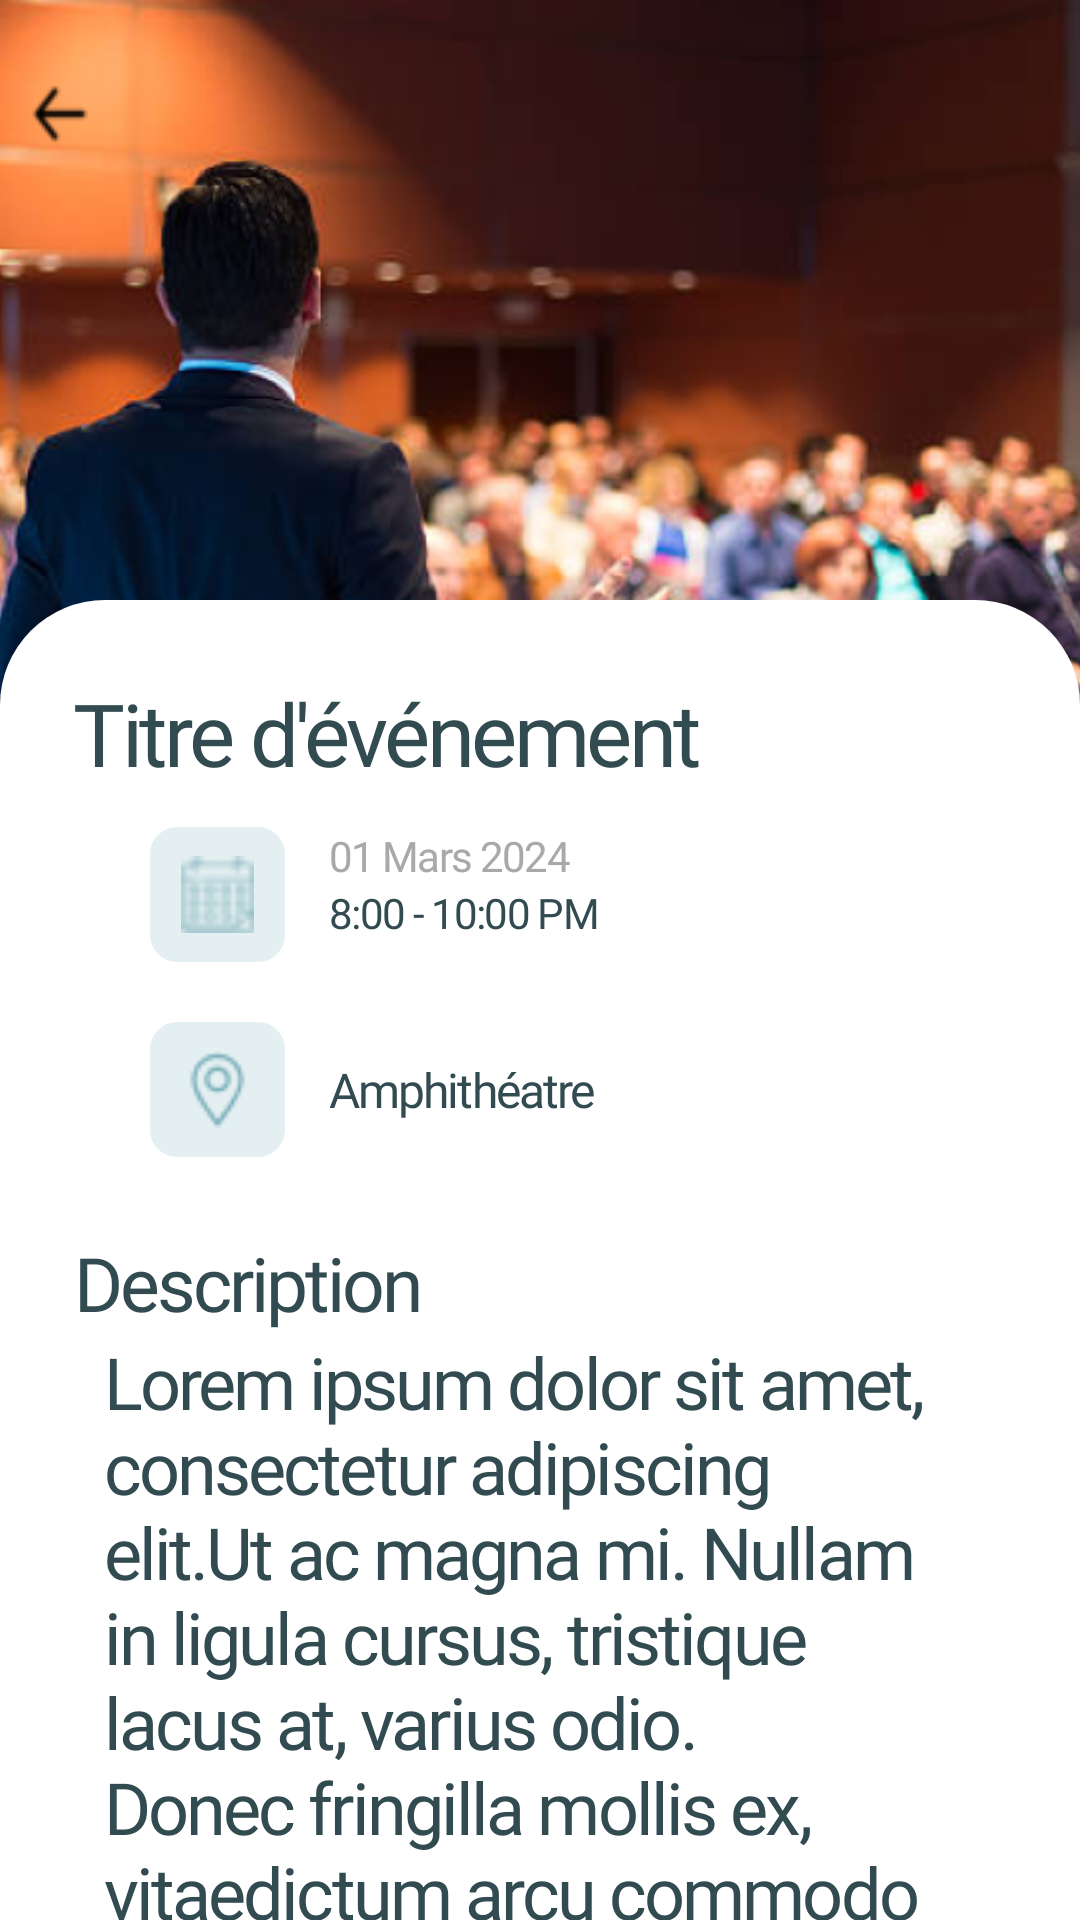

Where icons sit on this 1080 × 1920 app screen, as Rect(x1, y1, x2, y2):
back: Rect(21, 75, 99, 153)
calendar: Rect(150, 827, 285, 962)
local: Rect(150, 1022, 285, 1157)
